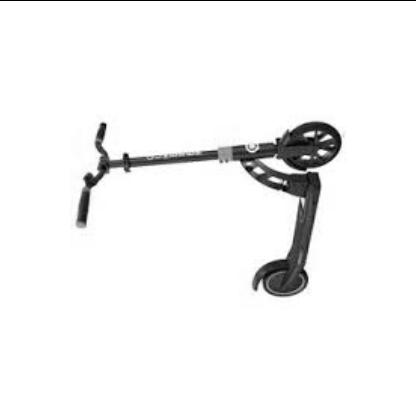bike: (74, 120, 342, 298)
